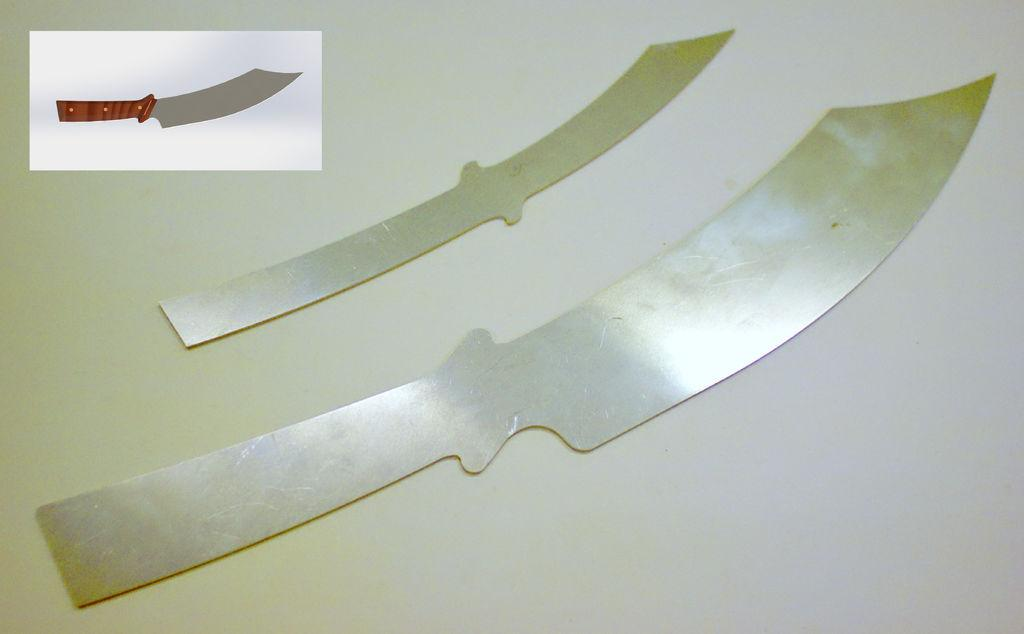Knife: (34, 73, 994, 612), (155, 30, 733, 348)
